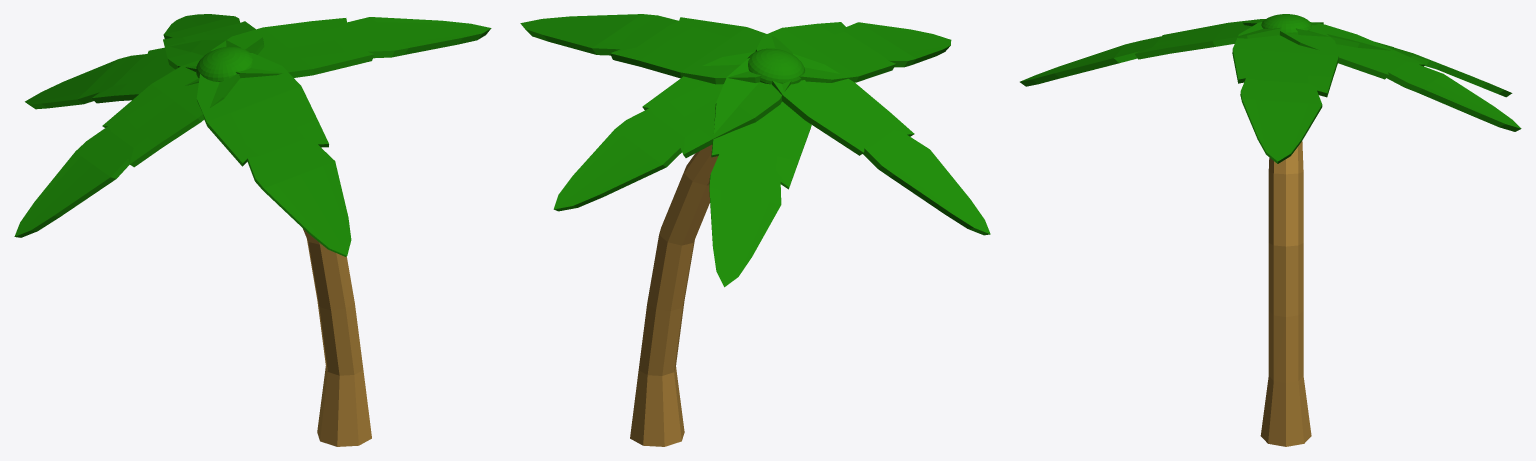
File: Palmera.fbx
3 renders of one model, left to right at view 1: azimuth 30°, elevation 25°; view 2: azimuth 150°, elevation 25°; view 3: azimuth 270°, elevation 25°, orthographic. The views are drawn at different scales.
Parts seen in each view (by area): view 1: Sphere004, Cylinder005; view 2: Sphere004, Cylinder005; view 3: Sphere004, Cylinder005.
Boxes of the visible parts, x1,y1,x2,y2 form: Sphere004: (14, 14, 491, 256); Cylinder005: (303, 229, 371, 446); Sphere004: (520, 14, 990, 287); Cylinder005: (630, 144, 718, 446); Sphere004: (1020, 14, 1521, 163); Cylinder005: (1260, 141, 1311, 446).
Bounding box in the file's own units: 40.24 × 33.33 × 41.15.
